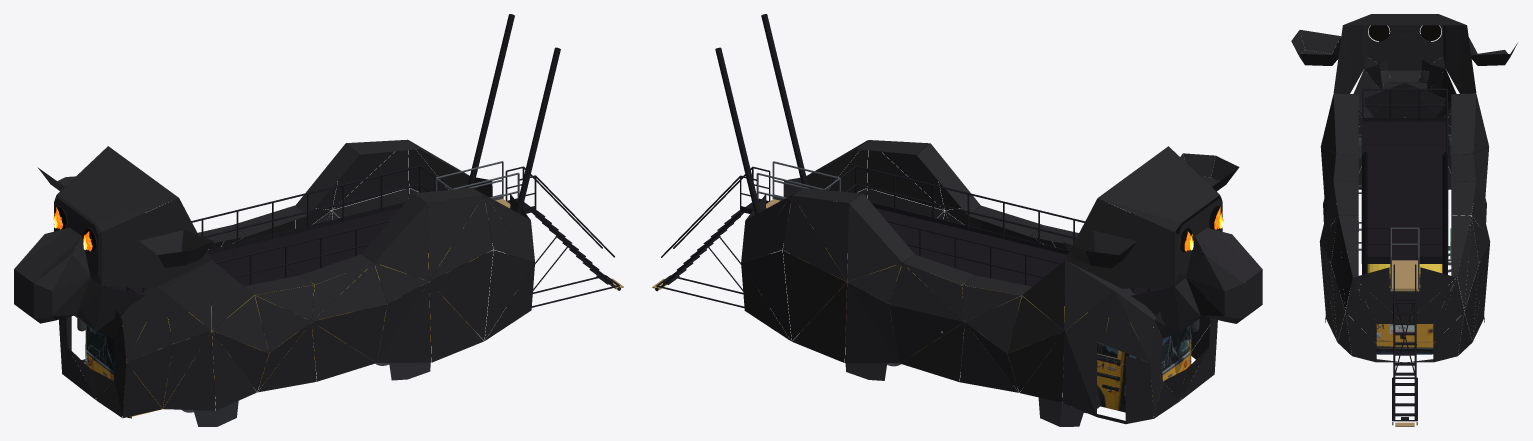
File: baaabs-earl-six-hoof-plates.glb
3 renders of one model, left to right at view 1: azimuth 30°, elevation 25°; view 2: azimuth 150°, elevation 25°; view 3: azimuth 270°, elevation 25°, orthographic. The views are drawn at different scales.
Visible parts, largest first — view 1: B-D-038 | Driver Flank 07 b, B-D-036 | Driver Flank 06 b, B-D-043 | Driver Skirt 02 a, B-D-037 | Driver Flank 07 a, B-D-047 | Driver Skirt 04 a, B-D-028 | Driver Flank 02 b, H-D-001 | Driver continuous side, B-D-045 | Driver Skirt 03 a, B-D-033 | Driver Flank 05 a, B-P-045 | Passenger Flank 07 a, H-D-014 | Driver head side upper, H-D-015 | Driver rising crown (+64 smaller); view 2: B-P-046 | Passenger Flank 07 b, B-P-044 | Passenger Flank 06 b, B-P-045 | Passenger Flank 07 a, B-P-055 | Passenger Skirt 04 a, H-P-001 | Passenger continuous side, B-P-036 | Passenger Flank 02 b, B-P-041 | Passenger Flank 05 a, B-D-037 | Driver Flank 07 a, H-P-015 | Passenger rising crown, H-C-002 | Center continuous rising crown, H-D-015 | Driver rising crown, H-P-014 | Passenger head side upper (+65 smaller); view 3: B-D-013 | Driver Crown 03 a, B-P-021 | Passenger Crown 03 a, Bus__Rear fascia, Dancefloor_section_01, B-D-059 | Driver Rear surround 06 a, B-P-015 | Passenger Rear surround 05 a, Dancefloor_section_02, Dancefloor_section_12, Dancefloor_section_05, Dancefloor_section_09, Dancefloor_section_04, Dancefloor_section_06 (+81 smaller).
Boxes of the visible parts, x1=… form: B-D-038 | Driver Flank 07 b: x1=427, y1=195, x2=483, y2=280; B-D-036 | Driver Flank 06 b: x1=374, y1=203, x2=428, y2=281; B-D-043 | Driver Skirt 02 a: x1=163, y1=332, x2=215, y2=410; B-D-037 | Driver Flank 07 a: x1=430, y1=196, x2=493, y2=280; B-D-047 | Driver Skirt 04 a: x1=258, y1=322, x2=316, y2=392; B-D-028 | Driver Flank 02 b: x1=162, y1=260, x2=211, y2=330; H-D-001 | Driver continuous side: x1=101, y1=250, x2=150, y2=288; B-D-045 | Driver Skirt 03 a: x1=212, y1=332, x2=256, y2=410; B-D-033 | Driver Flank 05 a: x1=312, y1=263, x2=386, y2=321; B-P-045 | Passenger Flank 07 a: x1=333, y1=150, x2=408, y2=209; H-D-014 | Driver head side upper: x1=101, y1=208, x2=156, y2=254; H-D-015 | Driver rising crown: x1=85, y1=178, x2=178, y2=222; B-P-046 | Passenger Flank 07 b: x1=793, y1=196, x2=848, y2=280; B-P-044 | Passenger Flank 06 b: x1=847, y1=203, x2=901, y2=281; B-P-045 | Passenger Flank 07 a: x1=783, y1=196, x2=846, y2=281; B-P-055 | Passenger Skirt 04 a: x1=959, y1=323, x2=1018, y2=392; H-P-001 | Passenger continuous side: x1=1125, y1=250, x2=1174, y2=288; B-P-036 | Passenger Flank 02 b: x1=1065, y1=260, x2=1113, y2=330; B-P-041 | Passenger Flank 05 a: x1=889, y1=263, x2=963, y2=321; B-D-037 | Driver Flank 07 a: x1=867, y1=150, x2=943, y2=210; H-P-015 | Passenger rising crown: x1=1098, y1=179, x2=1191, y2=222; H-C-002 | Center continuous rising crown: x1=1124, y1=165, x2=1209, y2=215; H-D-015 | Driver rising crown: x1=1142, y1=146, x2=1219, y2=201; H-P-014 | Passenger head side upper: x1=1120, y1=208, x2=1174, y2=254; B-D-013 | Driver Crown 03 a: x1=1333, y1=93, x2=1358, y2=154; B-P-021 | Passenger Crown 03 a: x1=1451, y1=93, x2=1476, y2=154; Bus__Rear fascia: x1=1370, y1=274, x2=1439, y2=347; Dancefloor_section_01: x1=1361, y1=121, x2=1448, y2=133; B-D-059 | Driver Rear surround 06 a: x1=1353, y1=267, x2=1404, y2=321; B-P-015 | Passenger Rear surround 05 a: x1=1405, y1=267, x2=1456, y2=321; Dancefloor_section_02: x1=1361, y1=133, x2=1448, y2=144; Dancefloor_section_12: x1=1361, y1=248, x2=1448, y2=263; Dancefloor_section_05: x1=1361, y1=167, x2=1448, y2=178; Dancefloor_section_09: x1=1361, y1=212, x2=1448, y2=223; Dancefloor_section_04: x1=1361, y1=156, x2=1448, y2=167; Dancefloor_section_06: x1=1361, y1=178, x2=1448, y2=189.
Size of the model in its own units: 18.68 by 8.36 by 7.07.
Materials: 225 (1 with a texture image).
